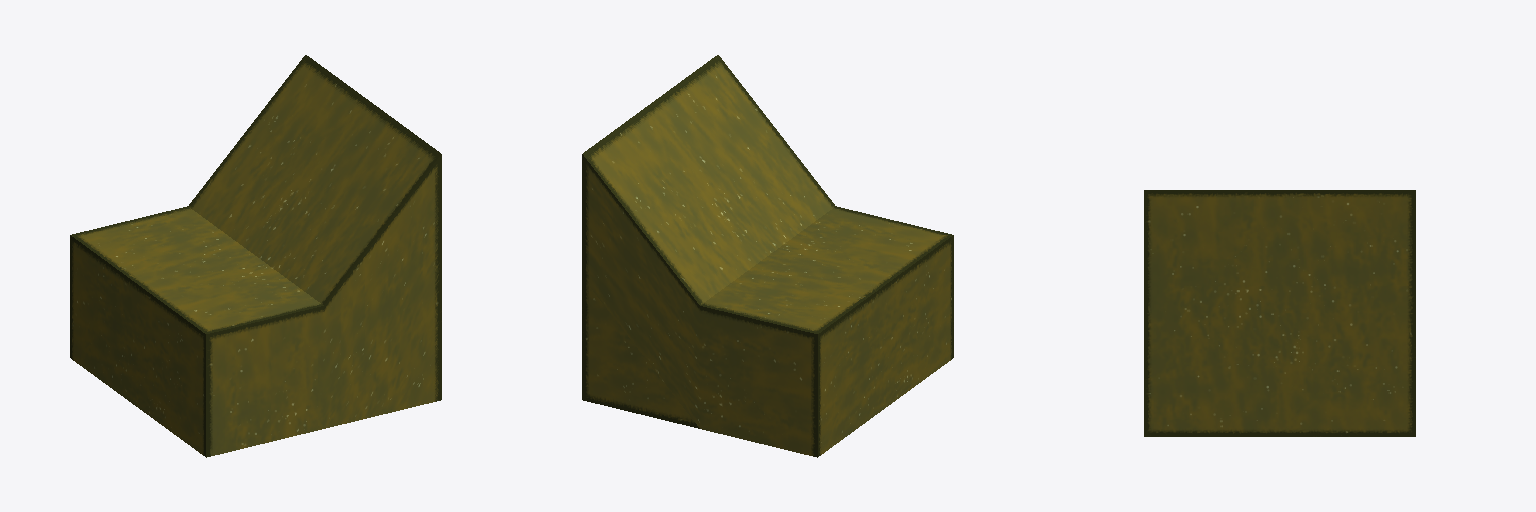
3 views of the same model, side by side, from view 1: azimuth 30°, elevation 25°; view 2: azimuth 150°, elevation 25°; view 3: azimuth 270°, elevation 25° (orthographic).
Visible parts, largest first — view 1: 7_path; view 2: 7_path; view 3: 7_path.
Part boxes in pixels (bbox=[...]): 7_path: bbox=[70, 55, 441, 457]; 7_path: bbox=[582, 55, 953, 457]; 7_path: bbox=[1144, 190, 1415, 436].
Bounding box in the file's own units: 1 × 1 × 1.
1 materials, 1 textured.